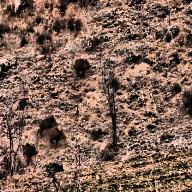boar: (70, 52, 93, 76), (36, 110, 60, 132), (20, 136, 38, 157), (48, 126, 66, 144), (45, 160, 62, 176)
